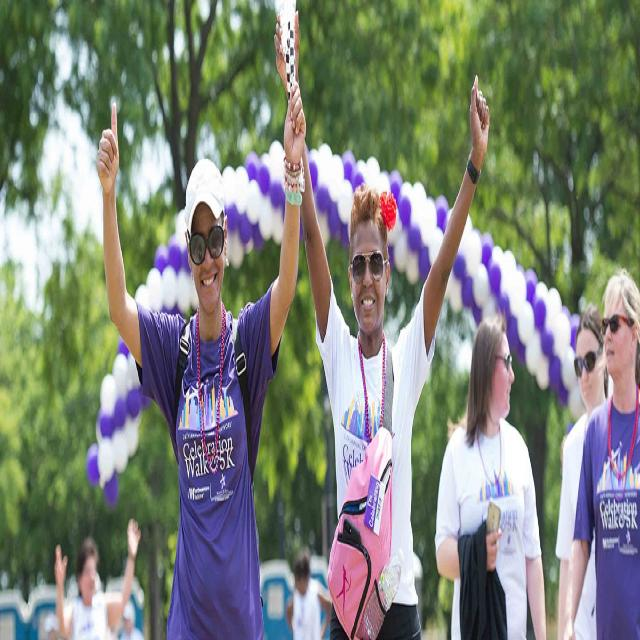body: (270, 0, 494, 639), (93, 0, 309, 639), (430, 306, 552, 639), (560, 256, 639, 639), (555, 301, 611, 640), (51, 511, 142, 639), (285, 553, 333, 640), (116, 599, 144, 640)
